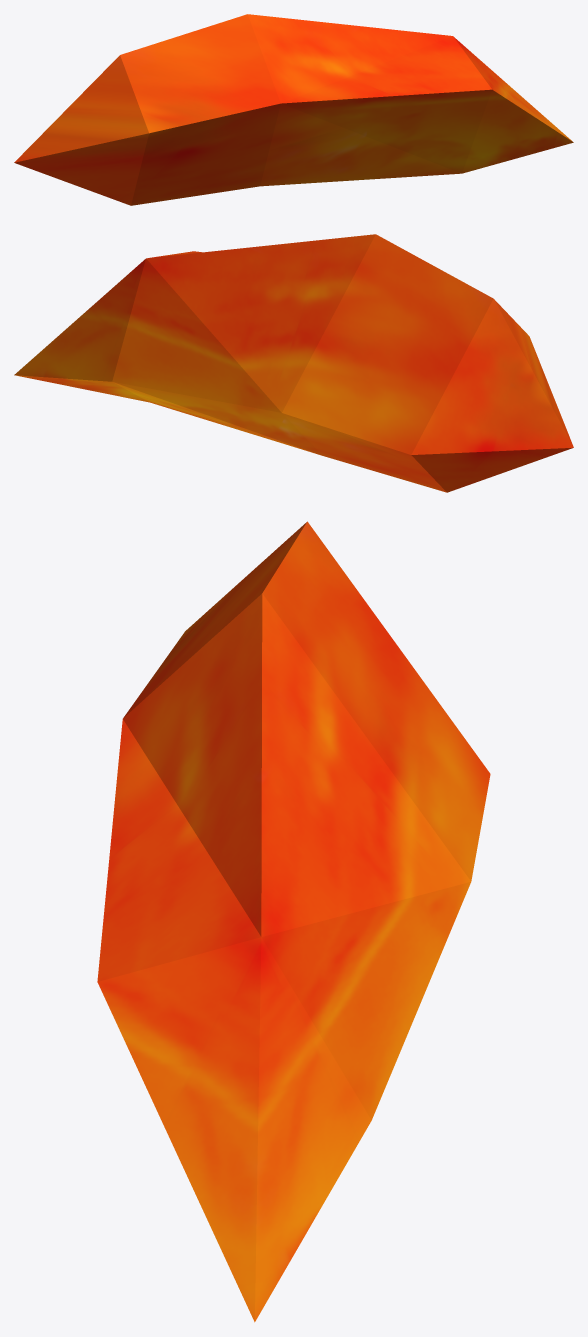
The model's file is Island_2_Tree_1_Leaf_9.gltf.
3 renders of one model, top to bottom at view 1: azimuth 30°, elevation 25°; view 2: azimuth 150°, elevation 25°; view 3: azimuth 270°, elevation 25°, orthographic. The views are drawn at different scales.
Visible parts, largest first — view 1: Island_2_Tree_1_Leaf_9; view 2: Island_2_Tree_1_Leaf_9; view 3: Island_2_Tree_1_Leaf_9.
Part boxes in pixels (x1,y1,x2,y2): Island_2_Tree_1_Leaf_9: (14, 14, 573, 205); Island_2_Tree_1_Leaf_9: (14, 234, 573, 492); Island_2_Tree_1_Leaf_9: (97, 521, 490, 1322).
Size of the model in its own units: 1.32 by 0.4915 by 0.4246.
1 material, 1 textured.
